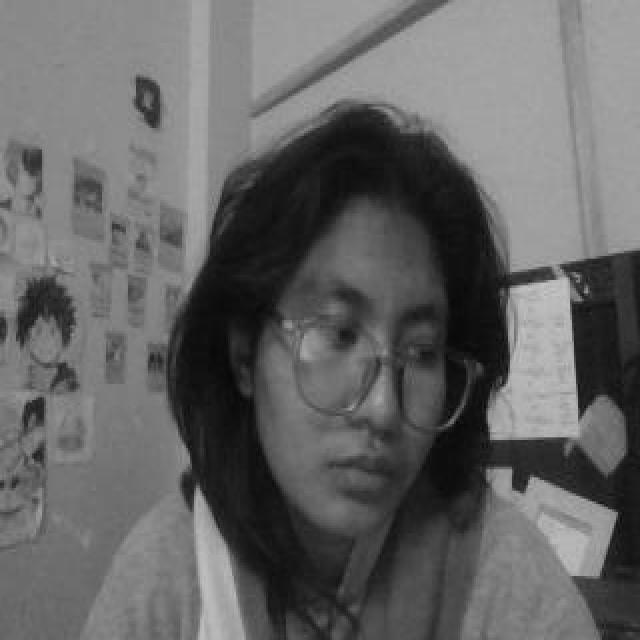Focused: (284, 206, 476, 532)
